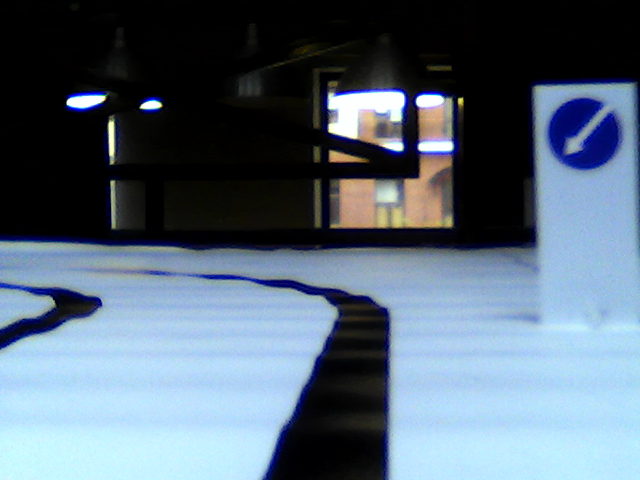prep: (546, 97, 623, 171)
